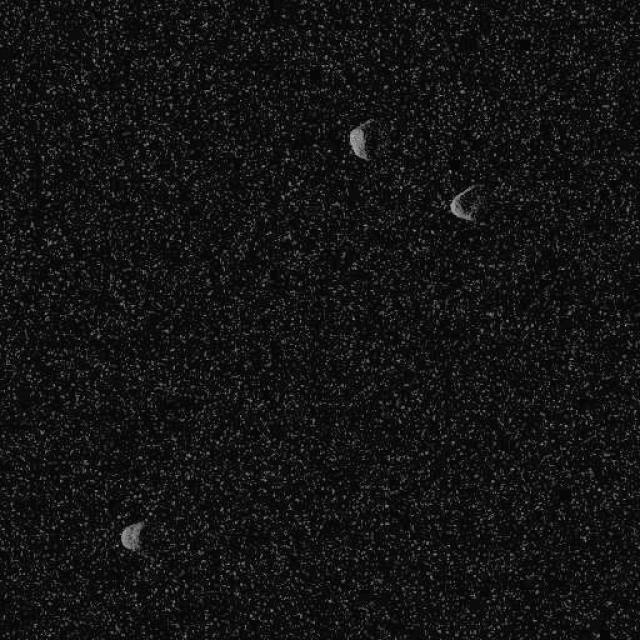D2: (448, 182, 488, 224), (348, 118, 373, 162), (119, 519, 145, 551)
